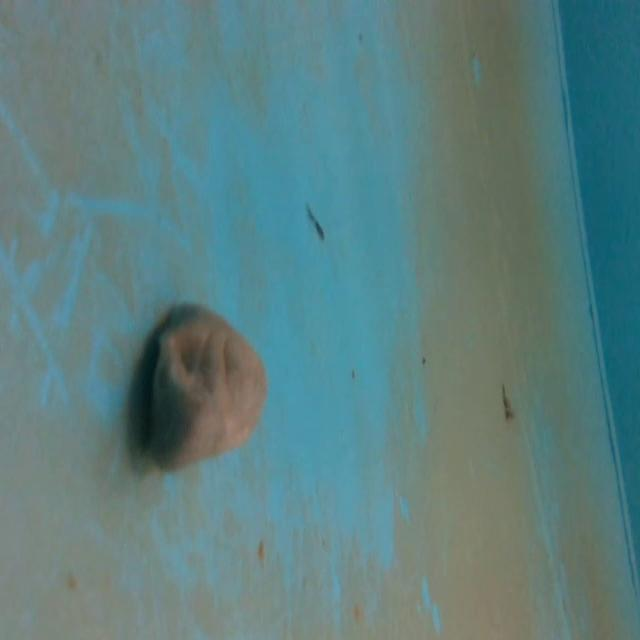rock: (136, 290, 270, 474)
